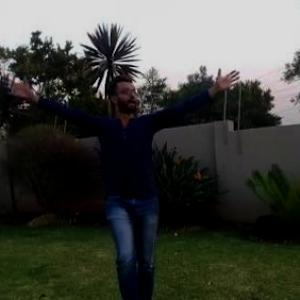takeoff: (1, 56, 240, 299)
